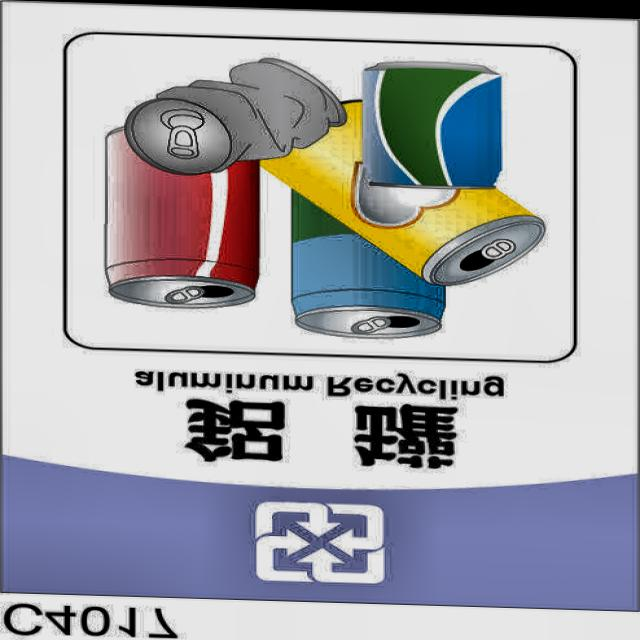can: (259, 88, 560, 292), (94, 118, 274, 319), (120, 45, 350, 187), (290, 173, 452, 345), (361, 50, 502, 194)
